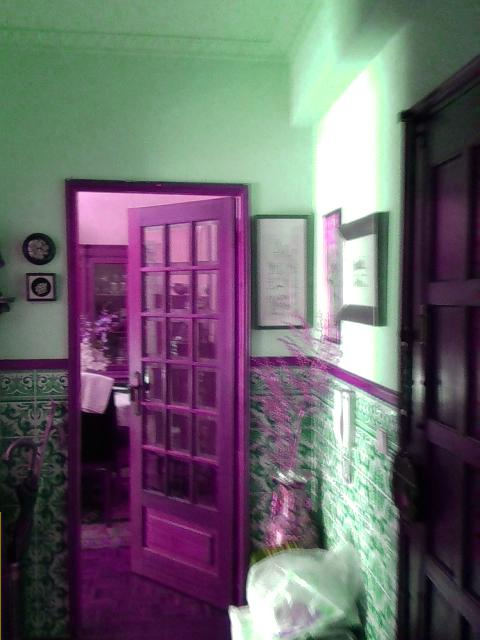semi_door: (61, 175, 249, 608)
